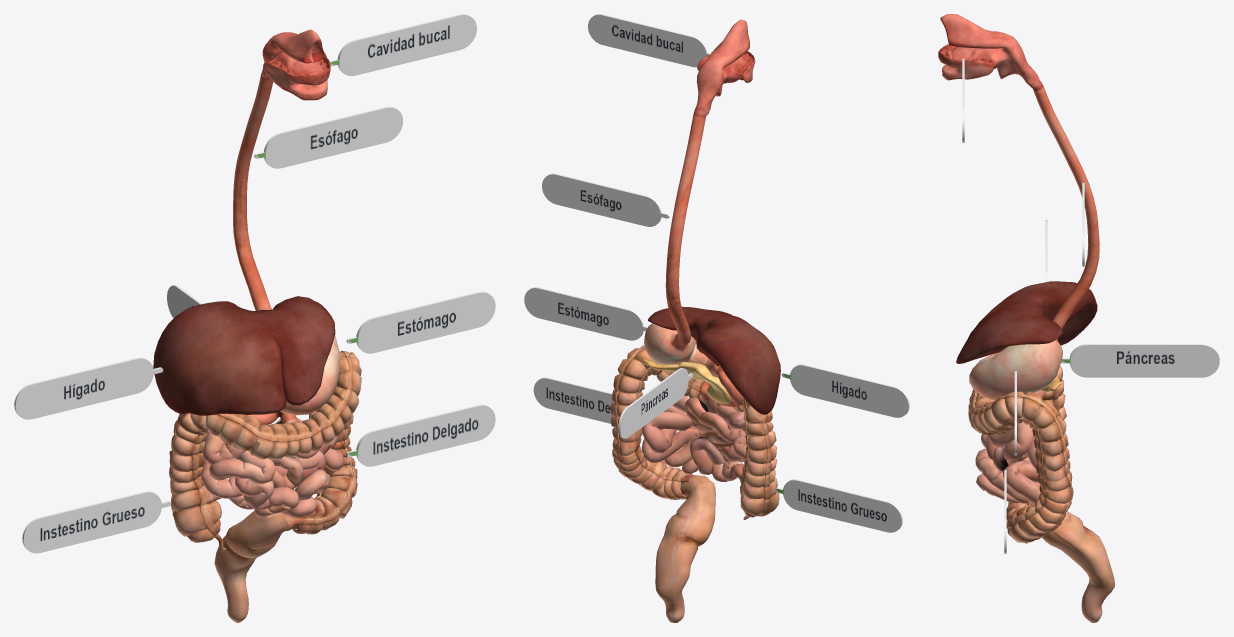
Rendered from digestivo.glb.
The picture shows the model from 3 angles, left to right: view 1: azimuth 30°, elevation 25°; view 2: azimuth 150°, elevation 25°; view 3: azimuth 270°, elevation 25°; orthographic projection. The views are drawn at different scales.
Visible parts, largest first — view 1: 03_01_0, 06_01_0, 05a_01_0, higado, estomago, gruego, delgado, esofago, bocal, 05b_01_0, 08_01_0, 01_01_0 (+4 smaller); view 2: 06_01_0, 03_01_0, 08_01_0, higado, esofago, gruego, estomago, bocal, 05a_01_0, 02_neck_0, 01_01_0, 05c_01_0 (+5 smaller); view 3: 03_01_0, pancreas, 05b_01_0, 01_01_0, 06_01_0, 04_01_0, 08_01_0, 02_neck_0, 05c_01_0, 05a_01_0.
Boxes of the visible parts, x1,y1,x2,y2 form: 03_01_0: [153, 296, 335, 415]; 06_01_0: [201, 411, 344, 518]; 05a_01_0: [169, 413, 260, 551]; higado: [14, 357, 163, 419]; estomago: [346, 291, 495, 353]; gruego: [22, 491, 171, 553]; delgado: [346, 404, 495, 466]; esofago: [254, 106, 402, 168]; bocal: [330, 14, 476, 76]; 05b_01_0: [247, 350, 361, 459]; 08_01_0: [214, 511, 304, 622]; 01_01_0: [261, 29, 330, 100]; 06_01_0: [641, 395, 746, 481]; 03_01_0: [648, 306, 780, 414]; 08_01_0: [655, 474, 715, 622]; higado: [781, 364, 909, 417]; esofago: [542, 173, 669, 226]; gruego: [775, 479, 902, 532]; estomago: [524, 287, 647, 340]; bocal: [588, 14, 710, 67]; 05a_01_0: [740, 399, 779, 519]; 02_neck_0: [665, 115, 705, 346]; 01_01_0: [693, 19, 755, 117]; 05c_01_0: [612, 426, 692, 499]; 03_01_0: [956, 281, 1097, 363]; pancreas: [1061, 344, 1219, 377]; 05b_01_0: [968, 389, 1070, 481]; 01_01_0: [938, 14, 1043, 90]; 06_01_0: [975, 390, 1045, 503]; 04_01_0: [969, 339, 1062, 400]; 08_01_0: [1008, 502, 1114, 622]; 02_neck_0: [1033, 86, 1099, 328]; 05c_01_0: [1006, 470, 1073, 543]; 05a_01_0: [1042, 366, 1066, 429].
Size of the model in its own units: 0.1847 by 0.2457 by 0.1033.
Materials: 17 (17 with a texture image).
